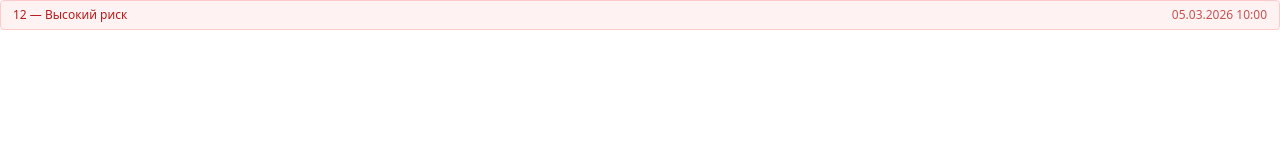
Test case: AssessmentHistoryRow › falls back to a dash when the author is unknown
This screenshot has width=1280, height=160.
Focus the text "05.03.2026 10:00" at [1219, 14], box [1172, 6, 1267, 23]
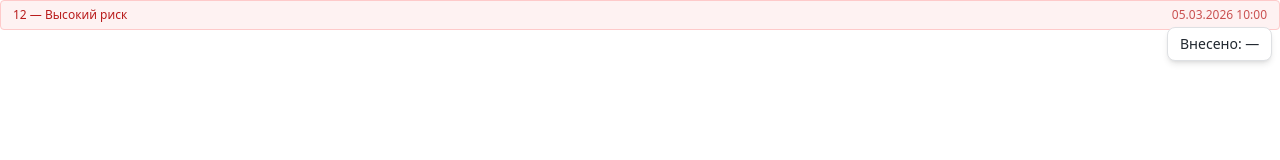
Expected: the tooltip "Внесено: —" is shown, [1167, 27, 1272, 61]
